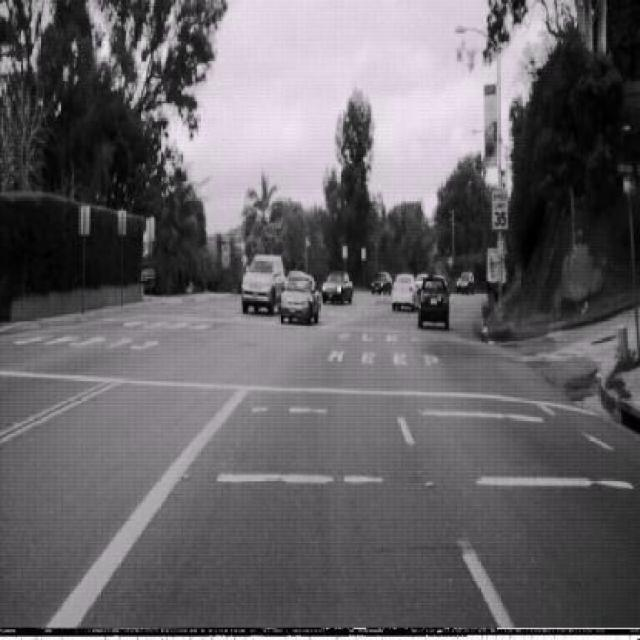speedLimit35: (491, 188, 509, 230)
